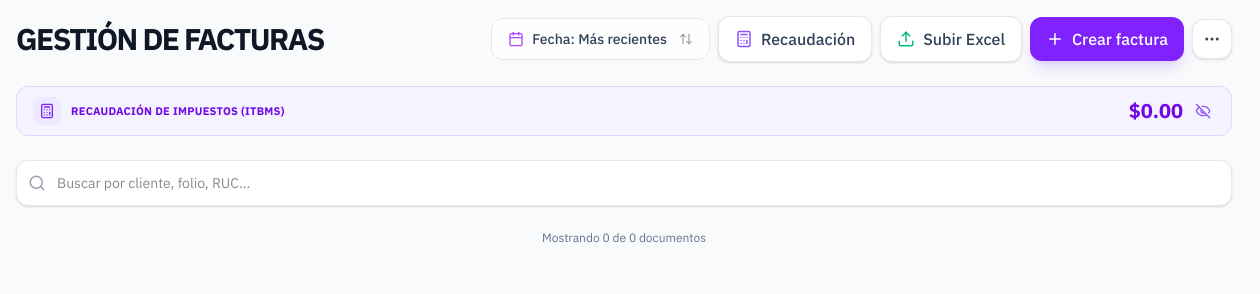
FacturasPageClient › muestra las consultas DGI en el menú "Más acciones"
This screenshot has width=1260, height=294.
// Las consultas DGI viven en un menú desplegable, no como botones sueltos
What coordinates should you click on to do the following:
click the button named "más acciones"
I would click on:
 (1212, 39)
Its box is [1192, 19, 1232, 59].
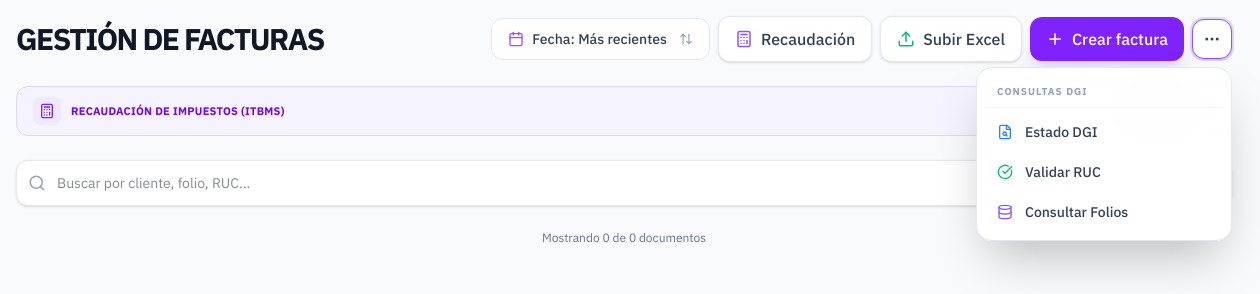
Expected: the menu item "Estado DGI" is shown, [985, 112, 1223, 152]
Expected: the menu item "Validar RUC" is shown, [985, 152, 1223, 192]
Expected: the menu item "Consultar Folios" is shown, [985, 192, 1223, 232]
